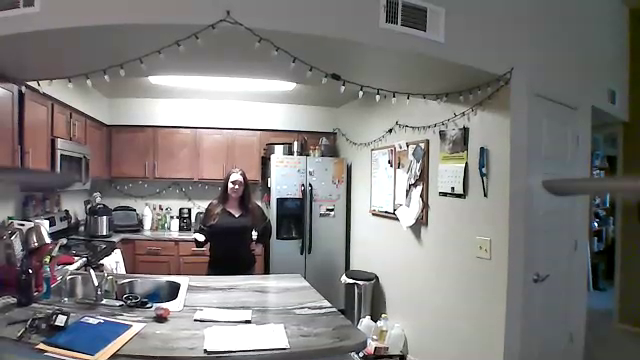land: (185, 229, 211, 250)
